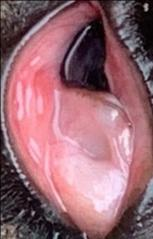eye_membrane: (6, 2, 151, 236)
